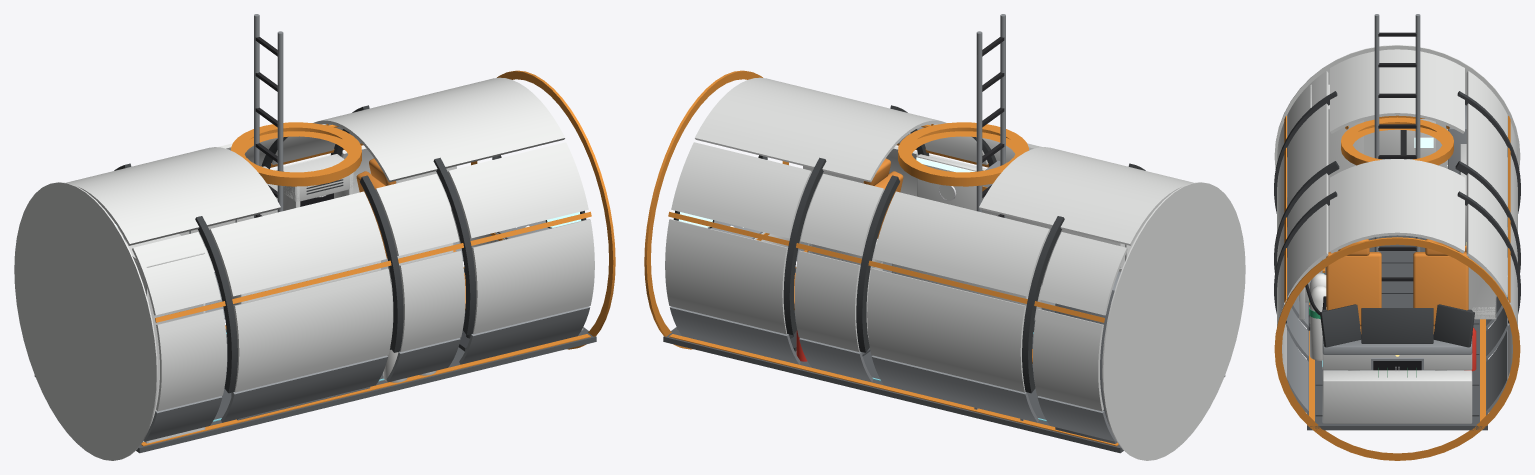
File: SM_Sub2_Interior.fbx
3 renders of one model, left to right at view 1: azimuth 30°, elevation 25°; view 2: azimuth 150°, elevation 25°; view 3: azimuth 270°, elevation 25°, orthographic. The views are drawn at different scales.
Visible parts, largest first — view 1: SM_Sub2_Interior; view 2: SM_Sub2_Interior; view 3: SM_Sub2_Interior.
Boxes of the visible parts, x1,y1,x2,y2 form: SM_Sub2_Interior: (14,14,615,460); SM_Sub2_Interior: (644,14,1245,460); SM_Sub2_Interior: (1274,14,1520,460).
Size of the model in its own units: 3.82 by 3.02 by 2.05.
